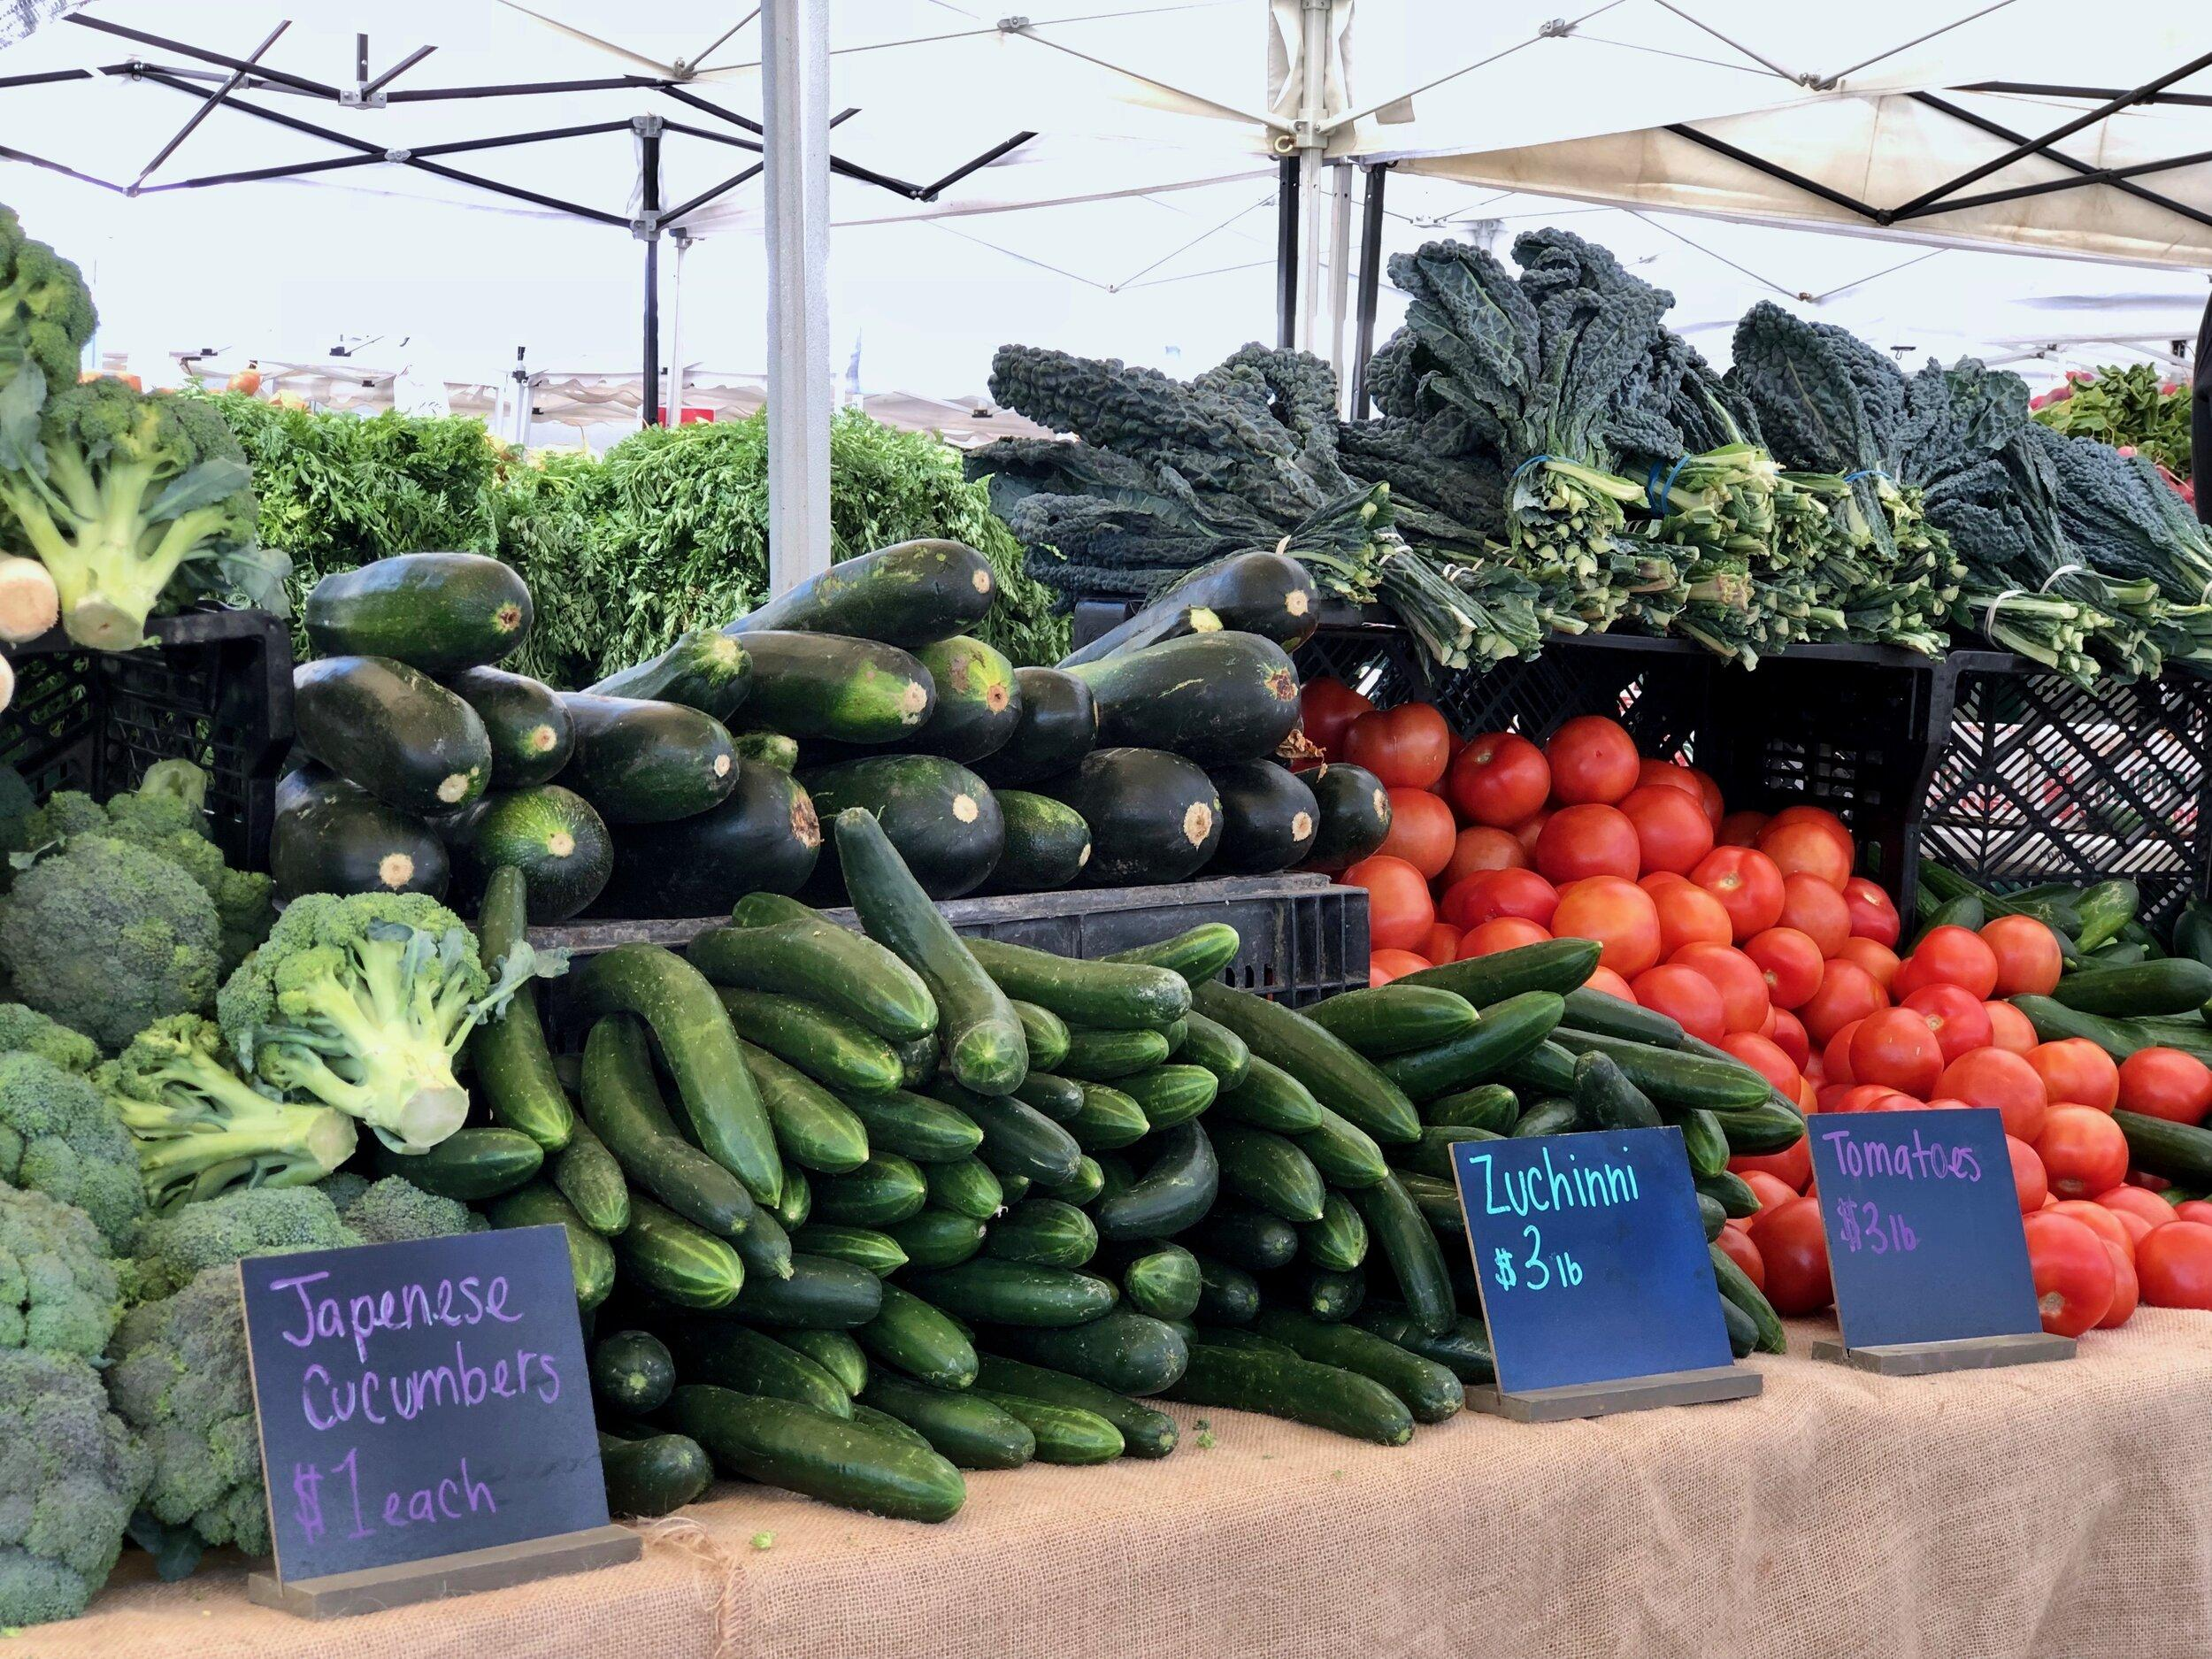cucumber: (418, 911, 1780, 1415)
tomato: (1294, 688, 2212, 1333)
